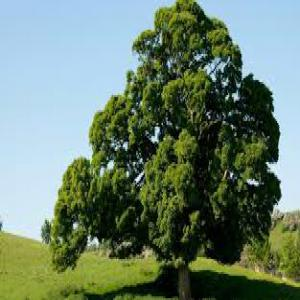Tree: (41, 0, 279, 297)
